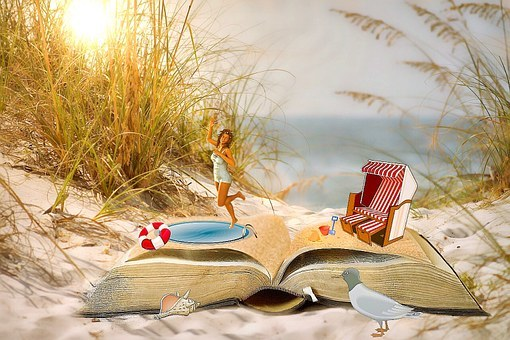bird: (328, 263, 421, 340)
chair: (340, 160, 419, 249)
person: (205, 116, 249, 231)
